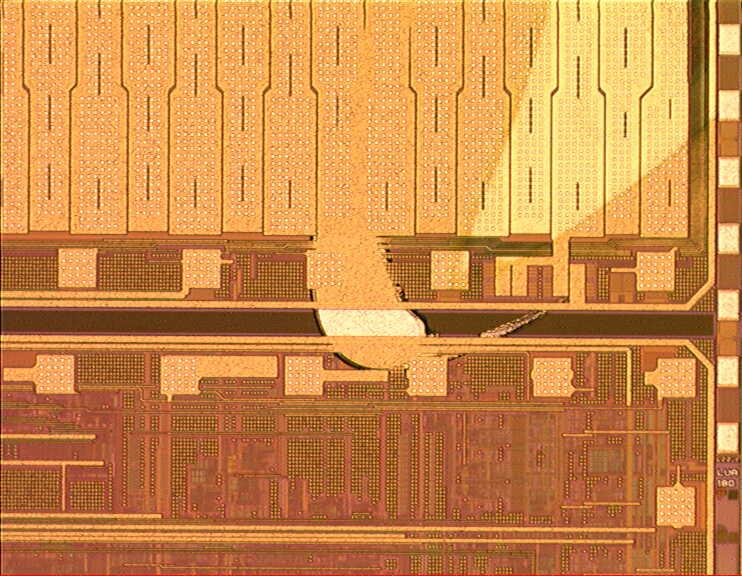COATING BAD: (295, 1, 742, 379)
